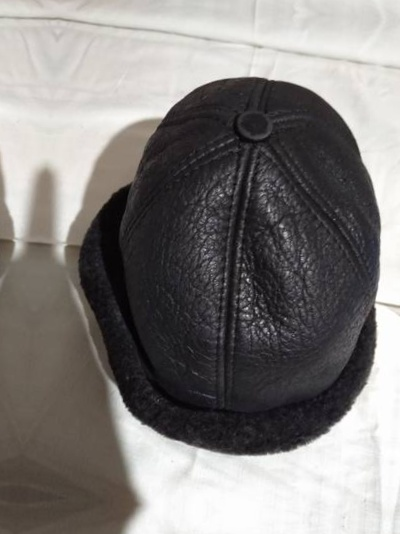Hat: (52, 36, 400, 452), (0, 3, 30, 419), (393, 65, 400, 481)
